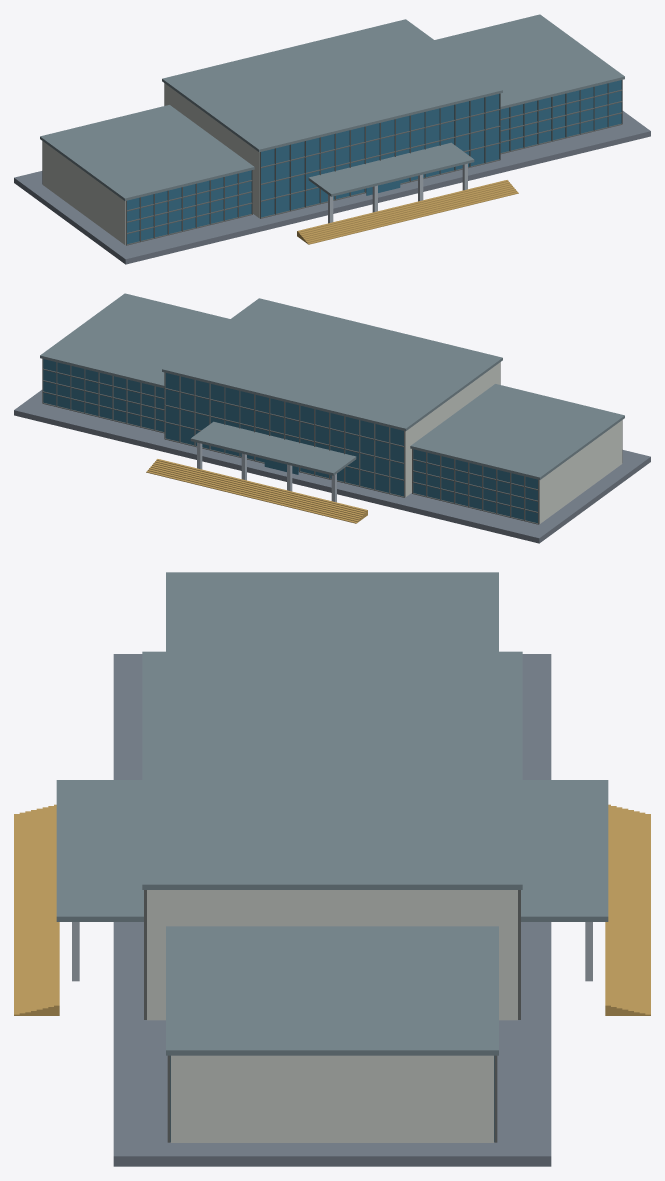
Rendered from EXHIBITION.glb.
3 renders of one model, top to bottom at view 1: azimuth 30°, elevation 25°; view 2: azimuth 150°, elevation 25°; view 3: azimuth 270°, elevation 25°, orthographic. The views are drawn at different scales.
Visible parts, largest first — view 1: EXHIBITION; view 2: EXHIBITION; view 3: EXHIBITION.
Boxes of the visible parts, x1,y1,x2,y2 form: EXHIBITION: (14,14,650,264); EXHIBITION: (14,293,650,543); EXHIBITION: (14,572,650,1166).
Bounding box in the file's own units: 125 × 17.1 × 67.
